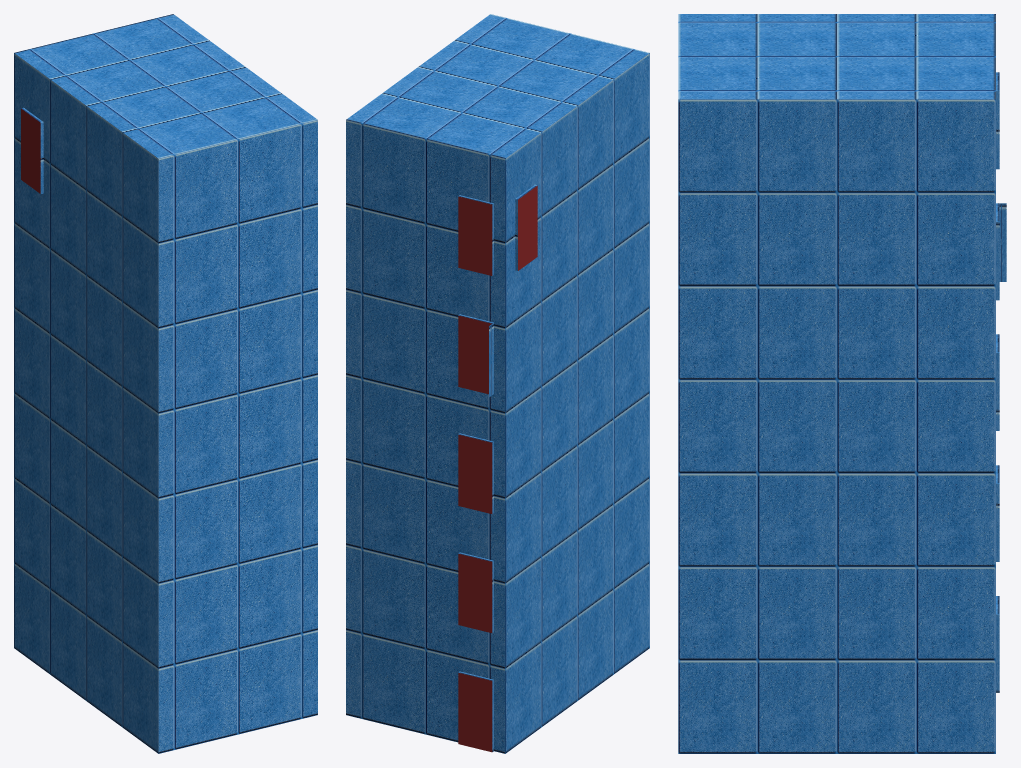
The model's file is ENVI_FireEscape.obj.
The picture shows the model from 3 angles, left to right: view 1: azimuth 30°, elevation 25°; view 2: azimuth 150°, elevation 25°; view 3: azimuth 270°, elevation 25°; orthographic projection. The views are drawn at different scales.
Visible parts, largest first — view 1: FireEscape; view 2: FireEscape; view 3: FireEscape.
Part boxes in pixels (x1,y1,x2,y2): FireEscape: (14, 14, 317, 753); FireEscape: (346, 14, 649, 753); FireEscape: (678, 14, 1006, 753).
Size of what is drawn, in the model's own units: 570 by 2000 by 910.
10 materials, 8 textured.
